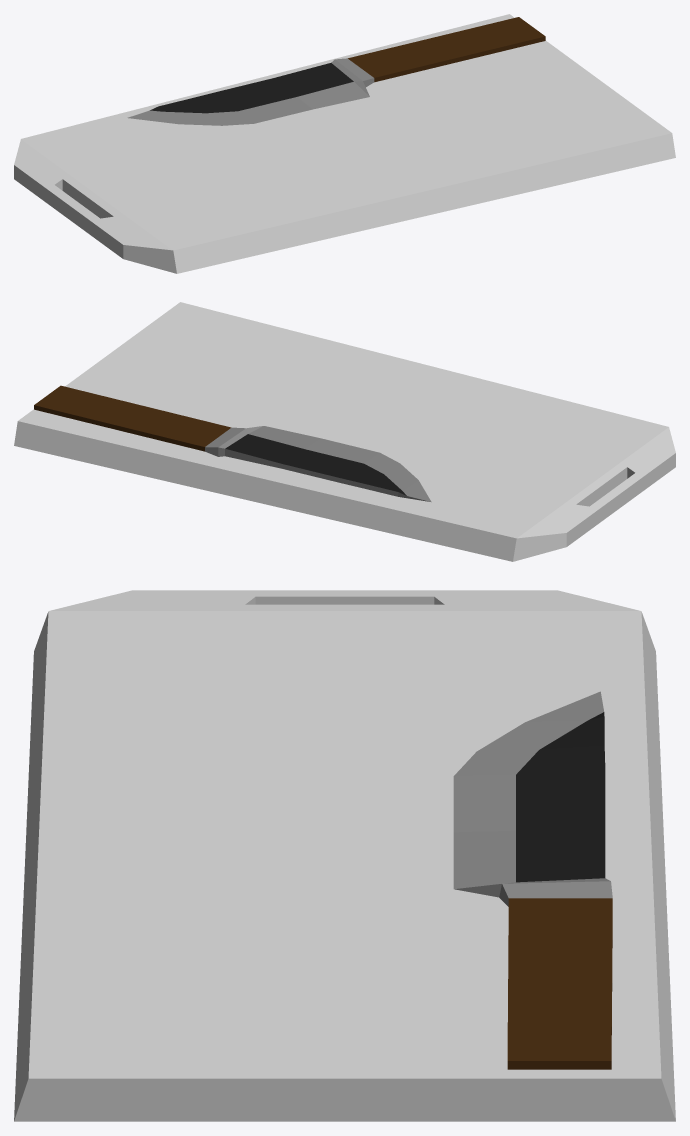
File: まな板_包丁.fbx
3 views of the same model, one above another, from view 1: azimuth 30°, elevation 25°; view 2: azimuth 150°, elevation 25°; view 3: azimuth 270°, elevation 25° (orthographic). The views are drawn at different scales.
Visible parts, largest first — view 1: まな板, 平面; view 2: まな板, 平面; view 3: まな板, 平面.
Boxes of the visible parts, x1,y1,x2,y2 form: まな板: (14, 14, 675, 273); 平面: (127, 17, 545, 125); まな板: (14, 302, 675, 561); 平面: (34, 385, 431, 501); まな板: (14, 590, 675, 1121); 平面: (453, 691, 612, 1069).
Size of the model in its own units: 48.34 by 2.83 by 27.26.
